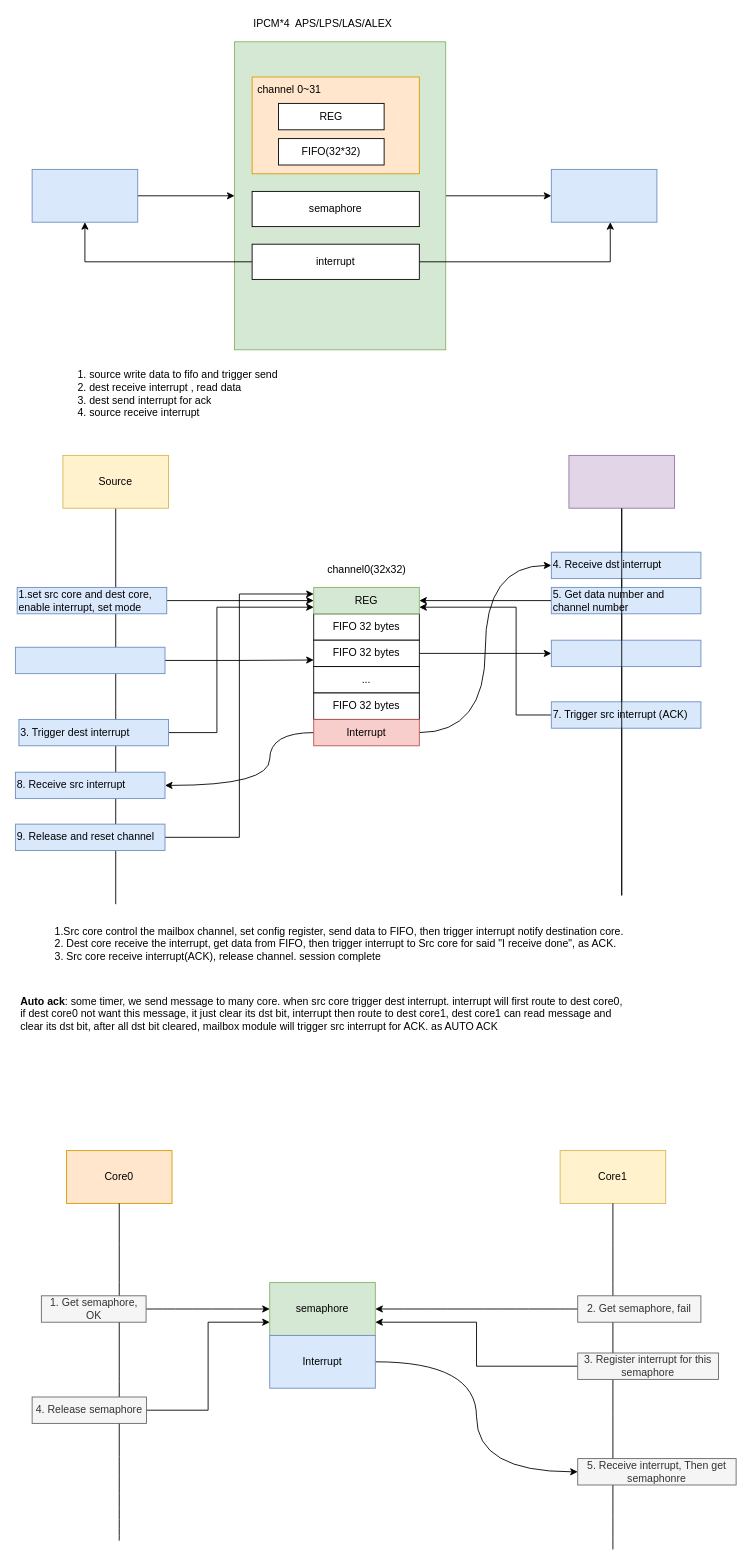
The diagram is 752 pixels wide and 1566 high, and some of its shapes have lost their labels. Here are the shapes that lost their labels. From the top down, the centre of each, then its label:
(84,195): source core
(603,195): dest core
(621,481): Destination
(90,660): 2. Write data to FIFO
(625,653): 6. Get data from FIFO
